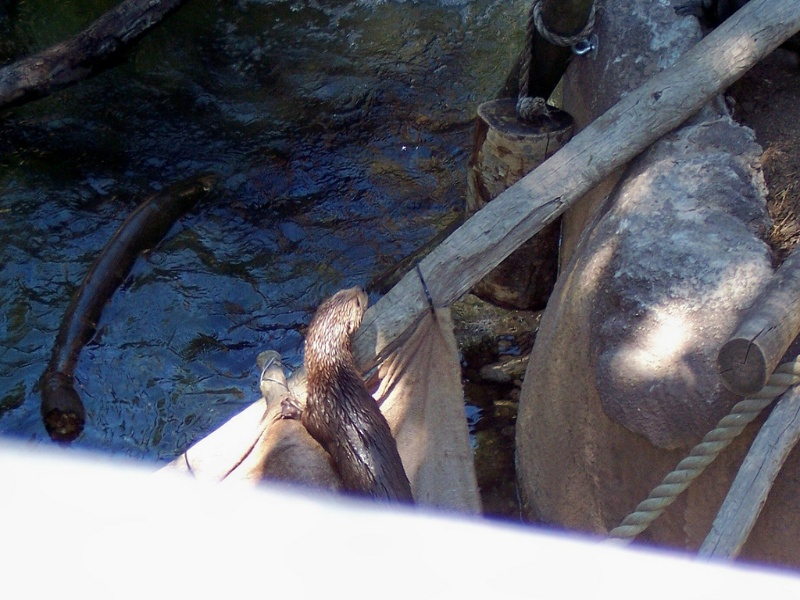minkish: (279, 280, 447, 541)
